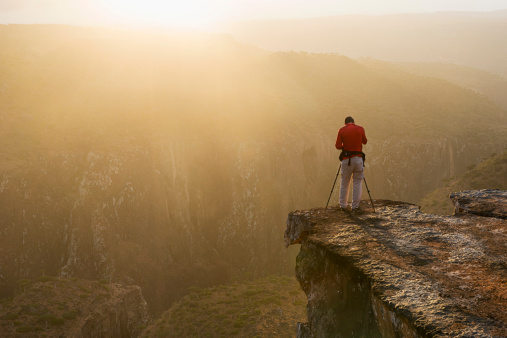em pe: (333, 104, 366, 200)
